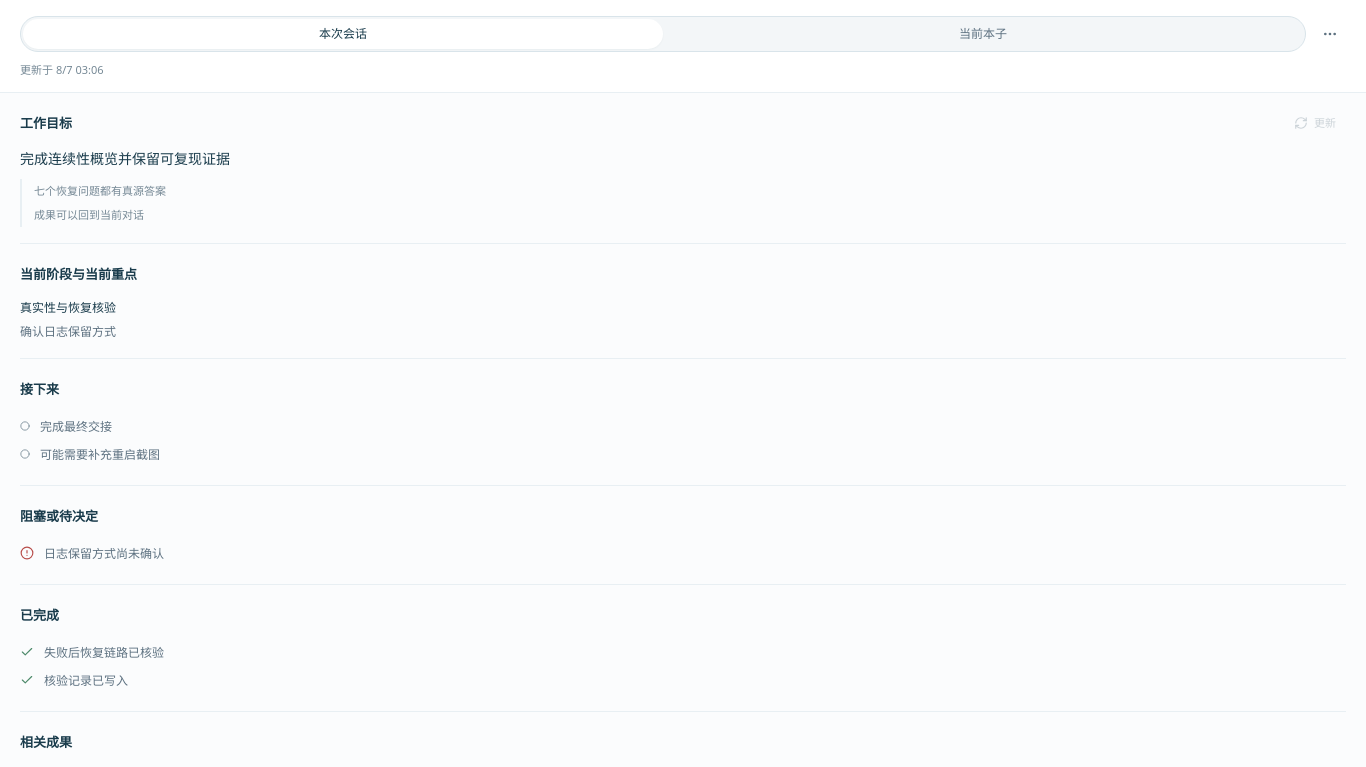
WorkbenchOverview › cancels objective editing without writing a correction
Click the button named "概览操作".
click(1330, 34)  # box [1314, 18, 1346, 50]
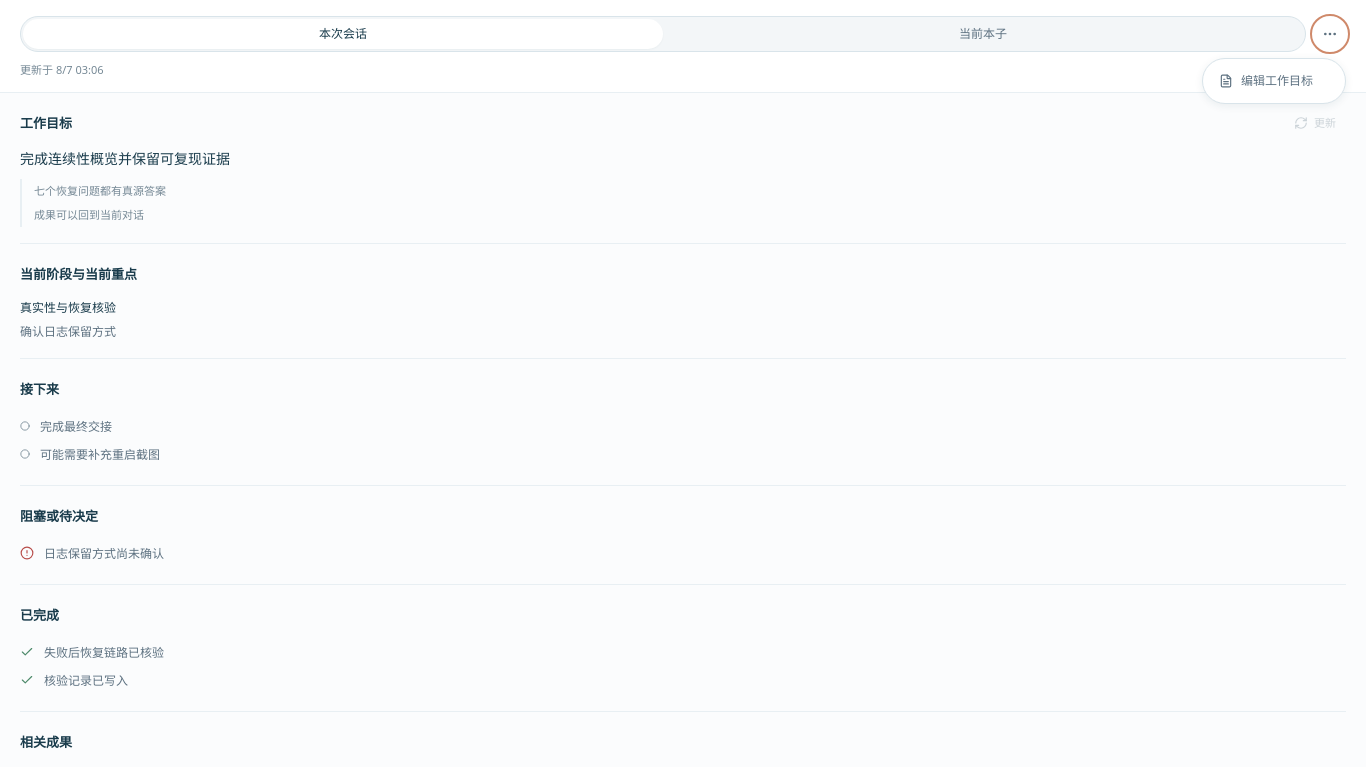
Click the button "编辑工作目标".
click(1274, 81)  # box [1209, 65, 1339, 97]
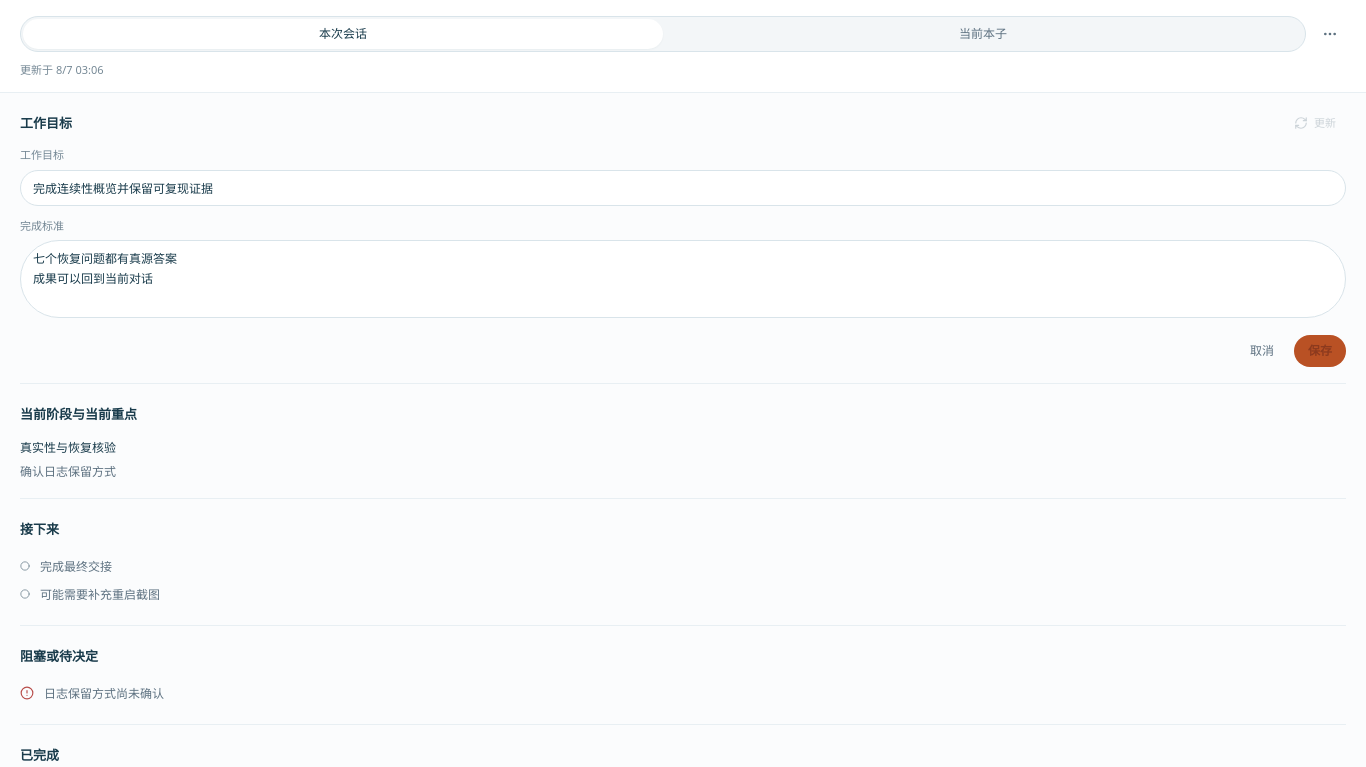
Click the button "取消".
click(1262, 350)  # box [1238, 334, 1286, 366]
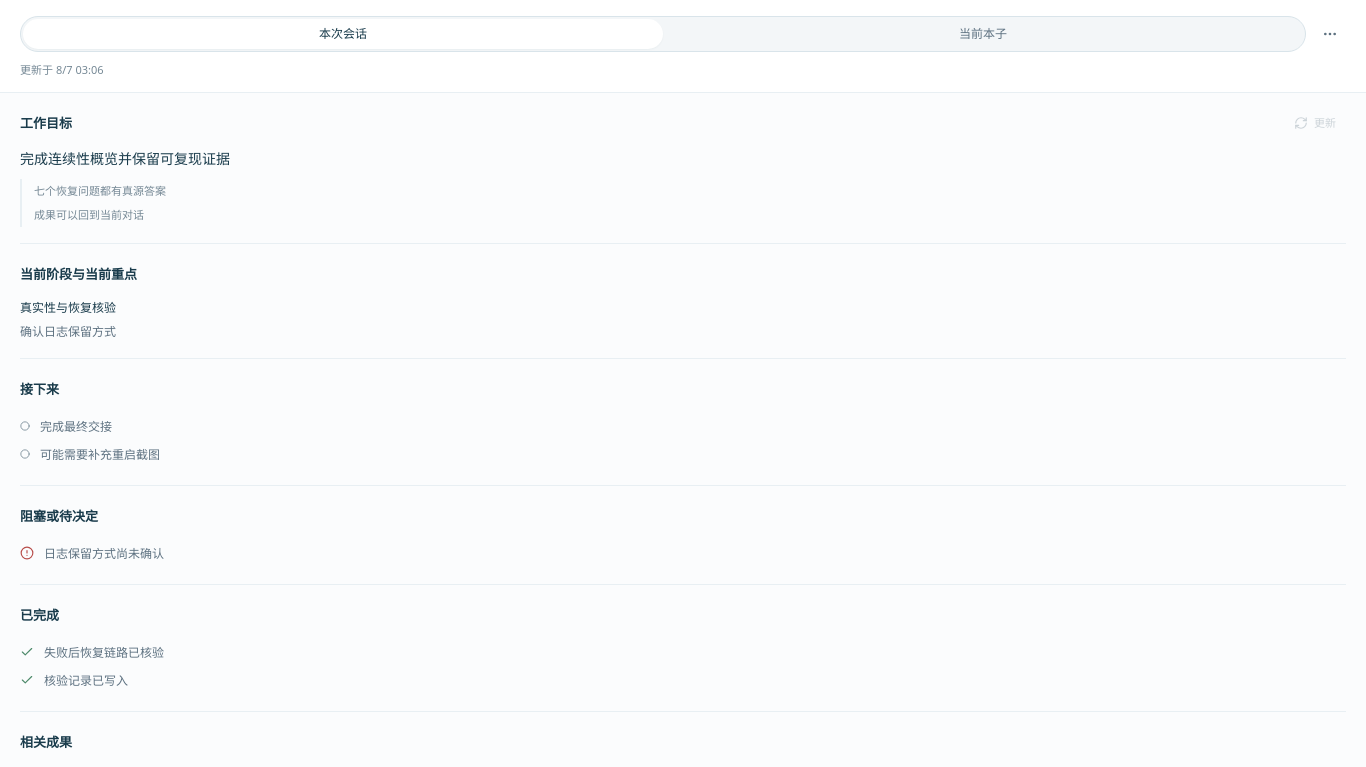
Result: the form "编辑工作目标" is gone
